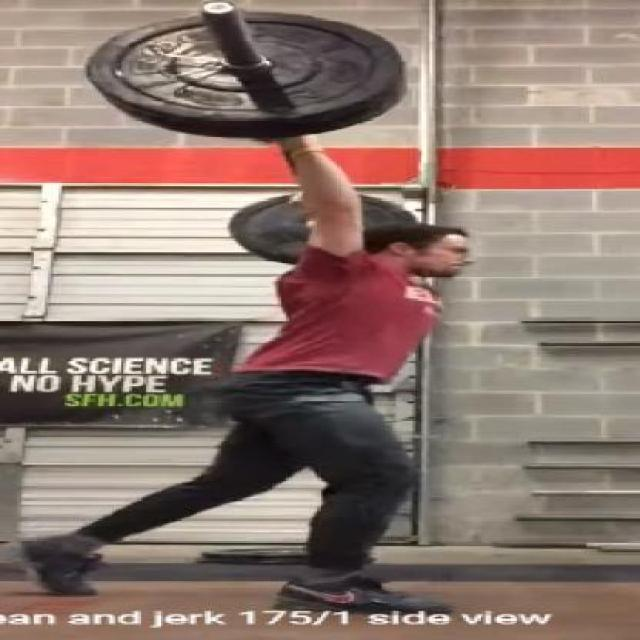barbell: (84, 2, 406, 130)
